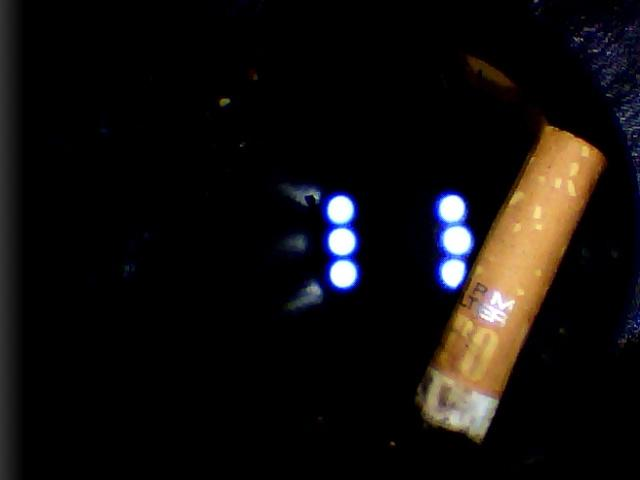megot: (403, 116, 618, 452)
